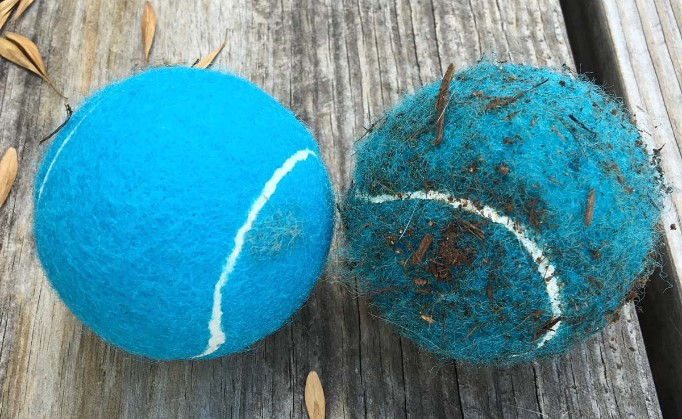blue ball: (342, 60, 670, 370), (32, 67, 336, 364)
